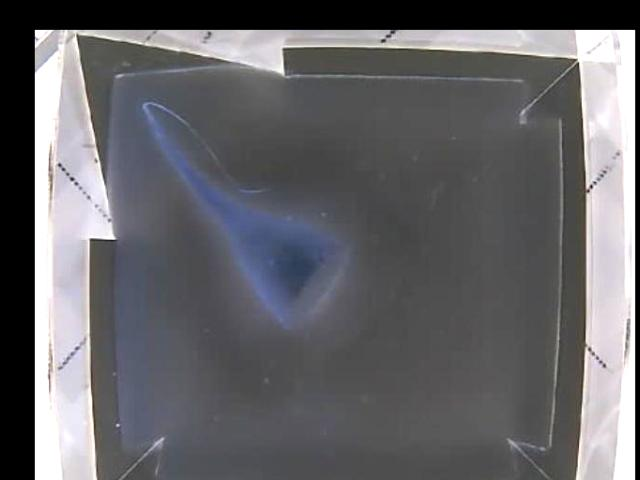Mooli: (220, 200, 351, 338)
